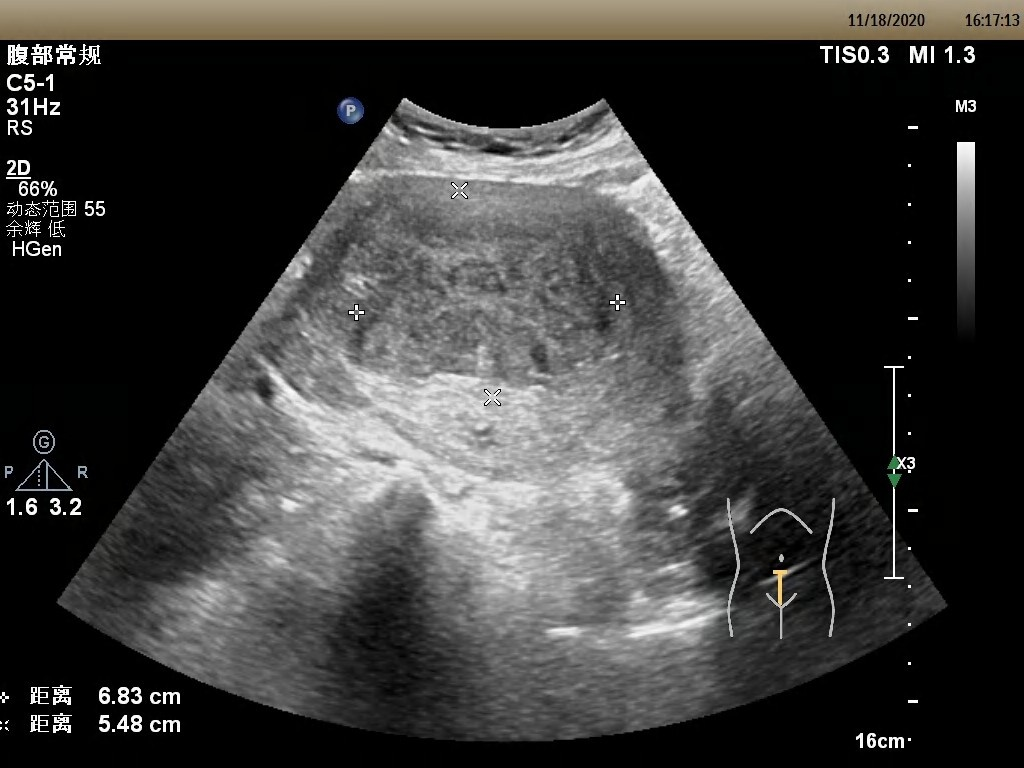肌瘤: (346, 199, 625, 387)
